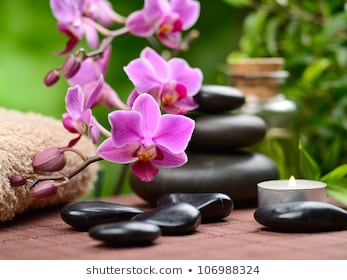Fire: (286, 174, 296, 192)
